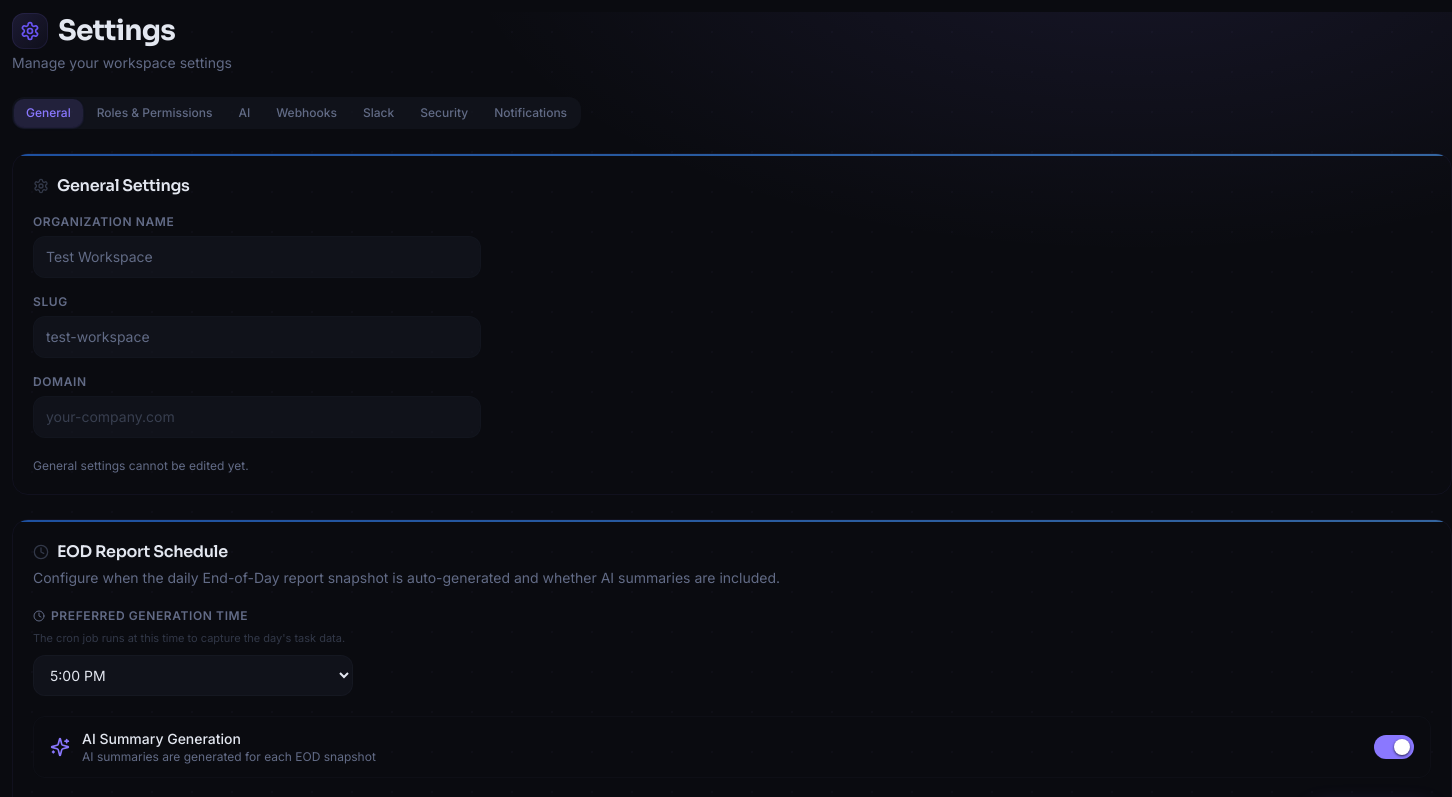
Test: Channel Toggle Interactions › enables slack channel toggle when connected
expect the tab "General" is shown: met, box [14, 99, 83, 127]
Click the tab "Notifications": (531, 113) [482, 99, 579, 127]
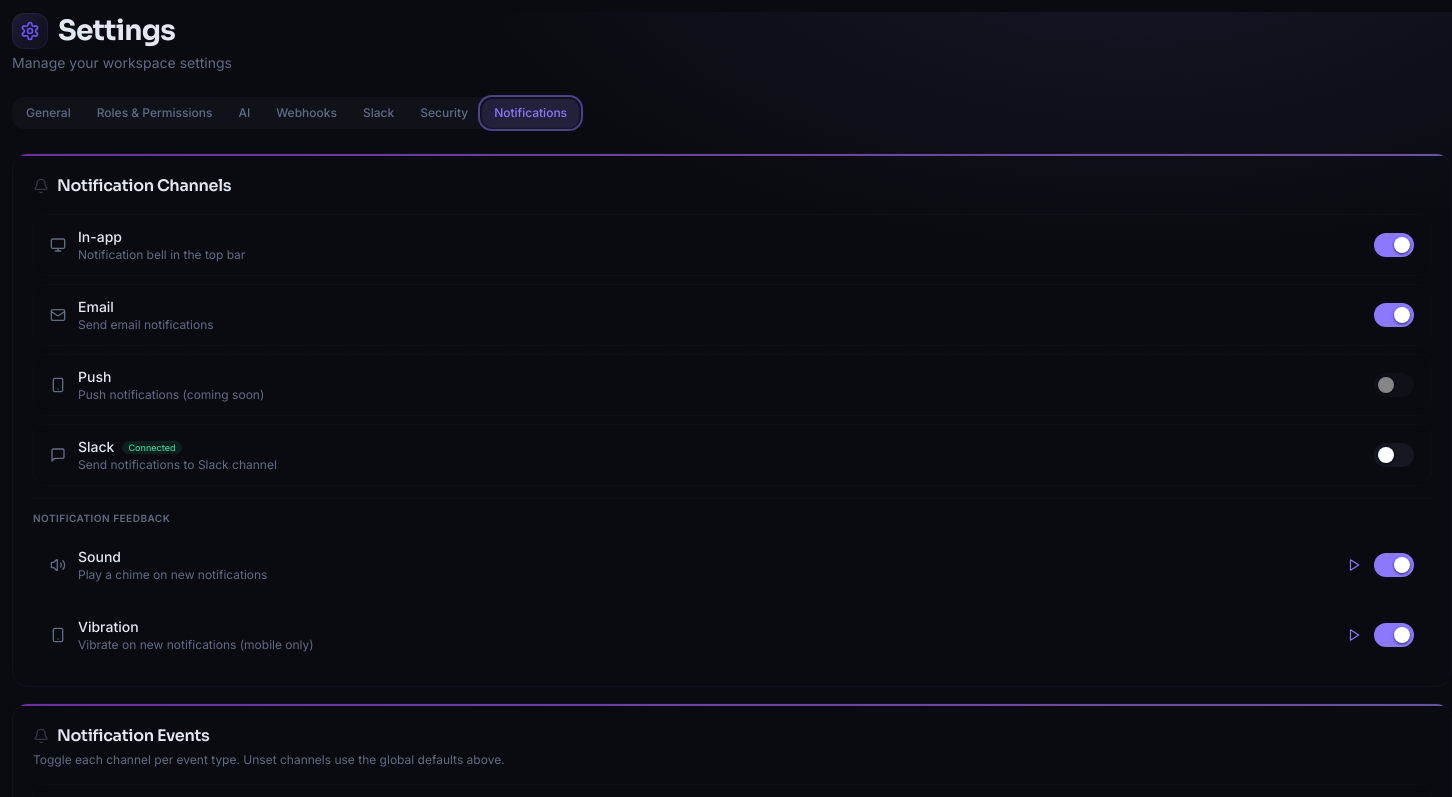
expect the switch named "Slack notifications" is enabled: met, box [1374, 443, 1414, 467]
expect the heading "Notification Channels" is shown: met, box [33, 175, 231, 196]
expect the text "Notification Feedback" is shown: met, box [33, 512, 170, 524]
